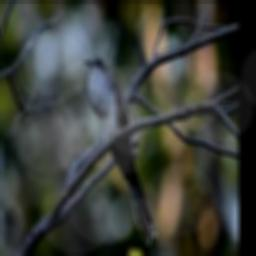Cuckoo: (82, 55, 157, 245)
